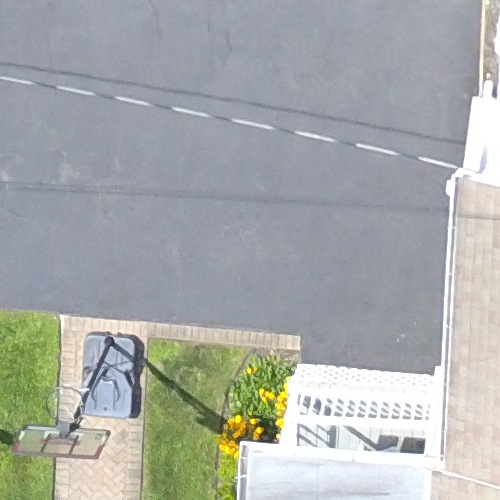basketball: (1, 315, 159, 475)
